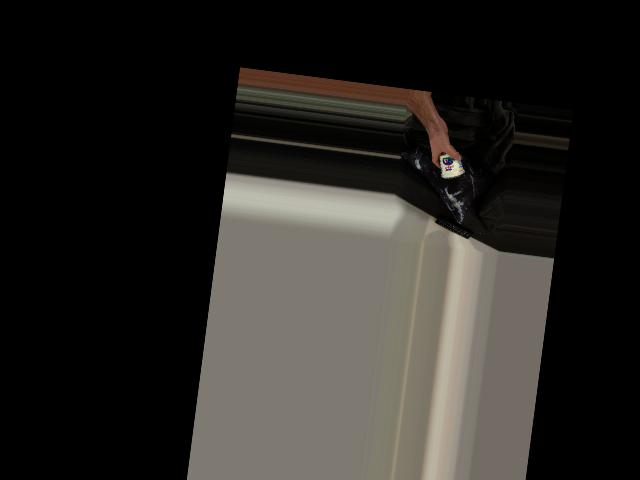cotage: (433, 145, 468, 184)
